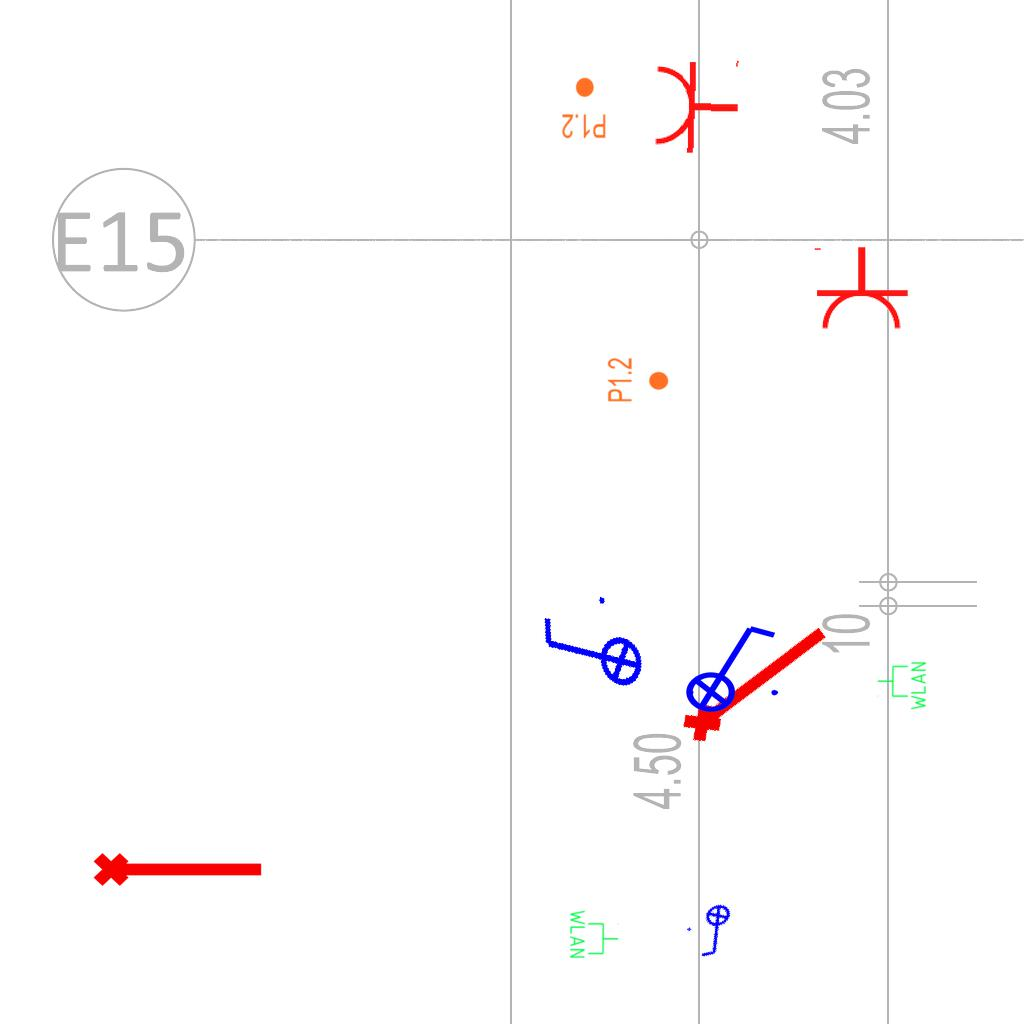ASR_Ansaugoeffnung: (670, 608, 840, 752), (91, 844, 267, 890)
Ausschalter_beleuchtet: (528, 584, 654, 722), (672, 618, 784, 714), (680, 897, 752, 965)
Downlight_LED_Einbauleuchten_Flur: (561, 76, 607, 140), (606, 357, 670, 403)
Schukosteckdose_einfach: (651, 53, 742, 157), (810, 245, 910, 332)
WLAN: (568, 908, 620, 960), (876, 660, 928, 712)
